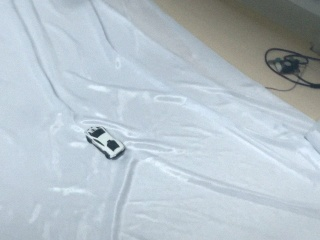toy_car: (85, 126, 125, 159)
